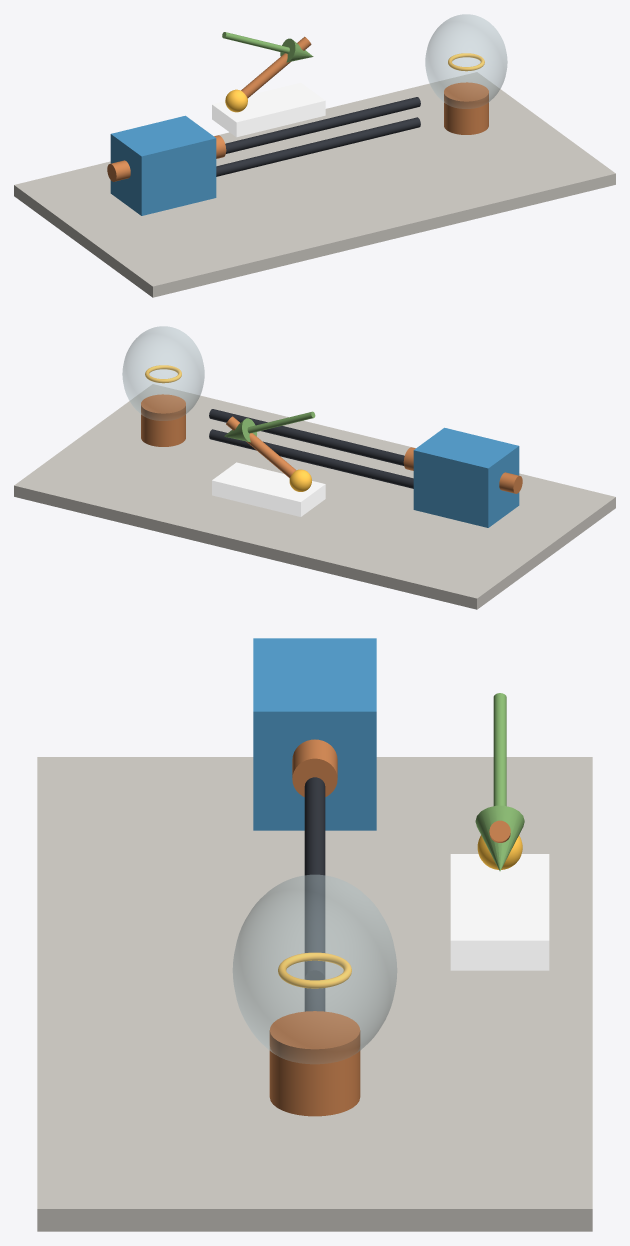
File: physics-electricity-switch.glb
The picture shows the model from 3 angles, top to bottom: view 1: azimuth 30°, elevation 25°; view 2: azimuth 150°, elevation 25°; view 3: azimuth 270°, elevation 25°; orthographic projection. The views are drawn at different scales.
Parts seen in each view (by area): view 1: circuit-base, battery-case, glass-bulb, switch-base, wire-bottom, bulb-base, wire-top, open-switch-lever, close-loop-arrow-shaft, negative-terminal, switch-pivot, close-loop-arrow-head; view 2: circuit-base, battery-case, glass-bulb, switch-base, bulb-base, wire-bottom, wire-top, open-switch-lever, close-loop-arrow-shaft, negative-terminal, switch-pivot, close-loop-arrow-head; view 3: circuit-base, glass-bulb, battery-case, switch-base, bulb-base, wire-top, positive-terminal, close-loop-arrow-head, close-loop-arrow-shaft, glowing-filament.
Boxes of the visible parts, x1,y1,x2,y2 form: circuit-base: (14,72,615,297); battery-case: (110,115,216,215); glass-bulb: (425,14,507,108); switch-base: (212,82,325,137); wire-bottom: (216,117,420,176); bulb-base: (444,82,488,134); wire-top: (225,97,420,153); open-switch-lever: (241,36,311,98); close-loop-arrow-shaft: (222,32,289,53); negative-terminal: (107,160,130,181); switch-pivot: (225,89,247,112); close-loop-arrow-head: (280,38,313,62); circuit-base: (14,384,615,609); battery-case: (413,427,519,527); glass-bulb: (122,326,204,420); switch-base: (212,462,325,516); bulb-base: (141,394,185,446); wire-bottom: (209,429,413,488); wire-top: (209,409,404,465); open-switch-lever: (226,416,295,477); close-loop-arrow-shaft: (247,411,315,433); negative-terminal: (499,472,522,493); switch-pivot: (289,469,311,491); close-loop-arrow-head: (224,418,256,442); circuit-base: (37,757,592,1231); glass-bulb: (232,874,397,1063); battery-case: (253,638,376,830); switch-base: (450,854,549,970); bulb-base: (269,1011,360,1116); wire-top: (304,777,325,980); positive-terminal: (292,739,337,796); close-loop-arrow-head: (475,805,524,871); close-loop-arrow-shaft: (493,693,506,806); glowing-filament: (278,952,351,988).
Size of what is drawn, in the model's own units: 2.6 by 0.73 by 1.35.
